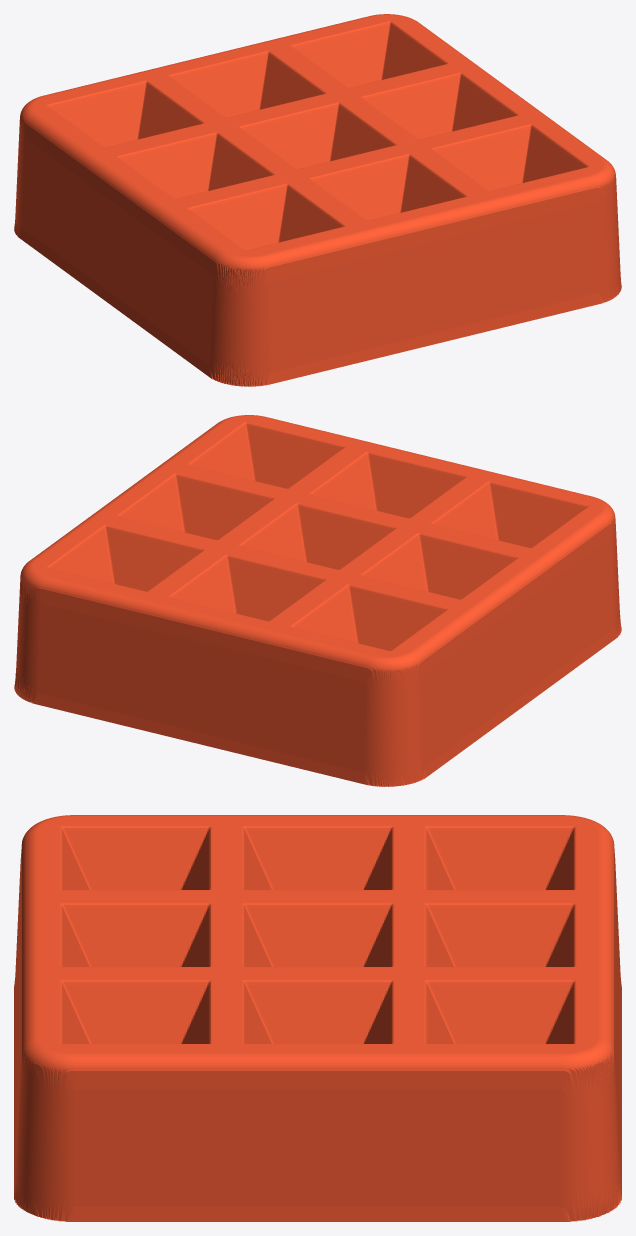
The model's file is mold.glb.
3 views of the same model, one above another, from view 1: azimuth 30°, elevation 25°; view 2: azimuth 150°, elevation 25°; view 3: azimuth 270°, elevation 25° (orthographic). The views are drawn at different scales.
Visible parts, largest first — view 1: geometry_0; view 2: geometry_0; view 3: geometry_0.
Boxes of the visible parts, box(x1,y1,x2,y2) form: geometry_0: box(14, 14, 621, 386); geometry_0: box(14, 415, 621, 786); geometry_0: box(14, 815, 621, 1221).
Bounding box in the file's own units: 0.0918 × 0.0264 × 0.0918.
